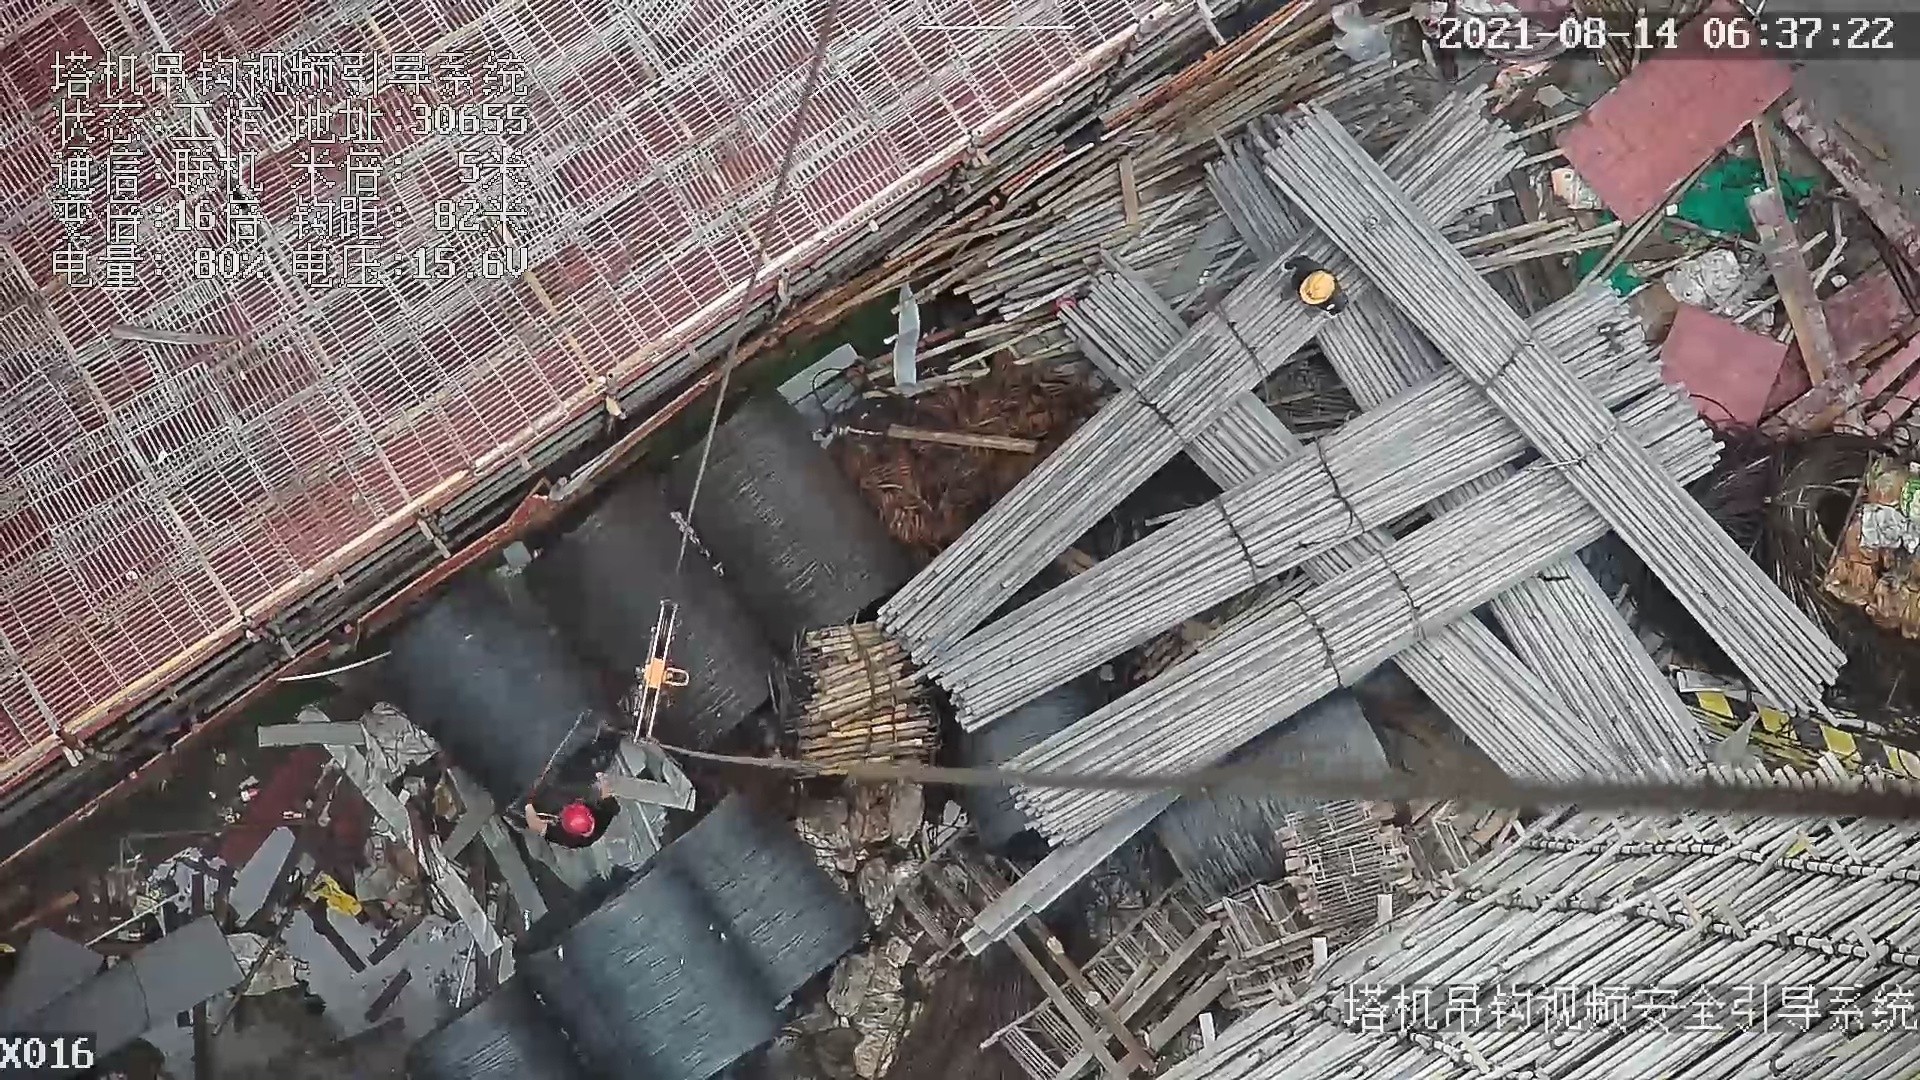helmet: (1295, 268, 1337, 307), (556, 800, 600, 837)
hook: (631, 591, 686, 747)
person: (514, 790, 627, 853), (1274, 251, 1354, 321)
scaffold: (959, 103, 1829, 785), (779, 631, 934, 762)
